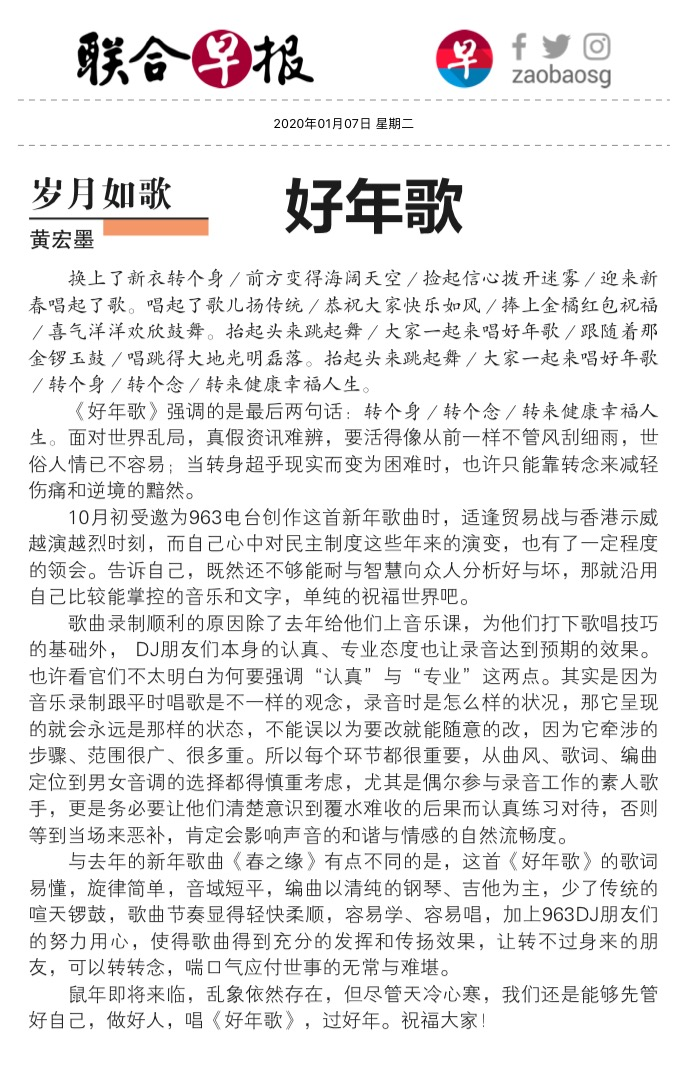heading: (280, 170, 475, 239)
